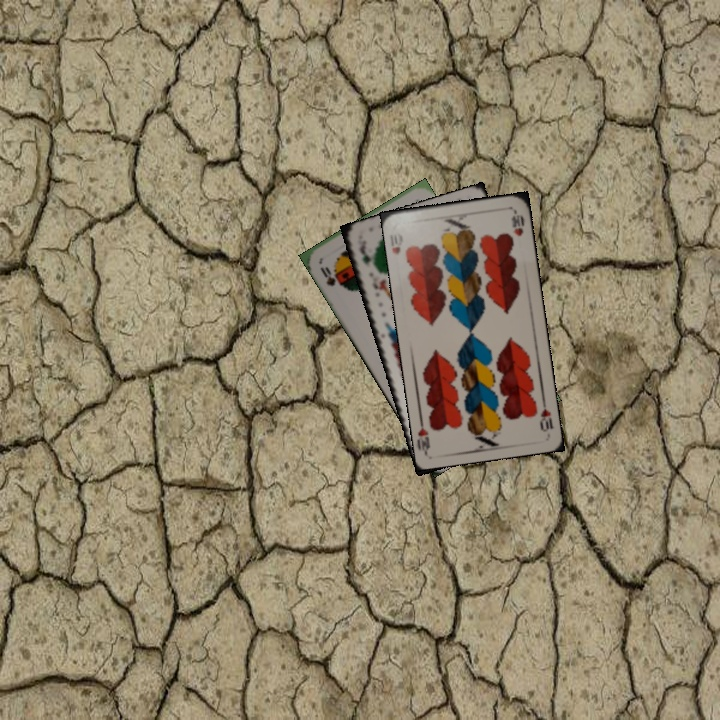GK: (357, 248, 378, 272)
H10: (536, 395, 556, 434), (388, 227, 405, 257)
SO: (316, 262, 344, 290)
